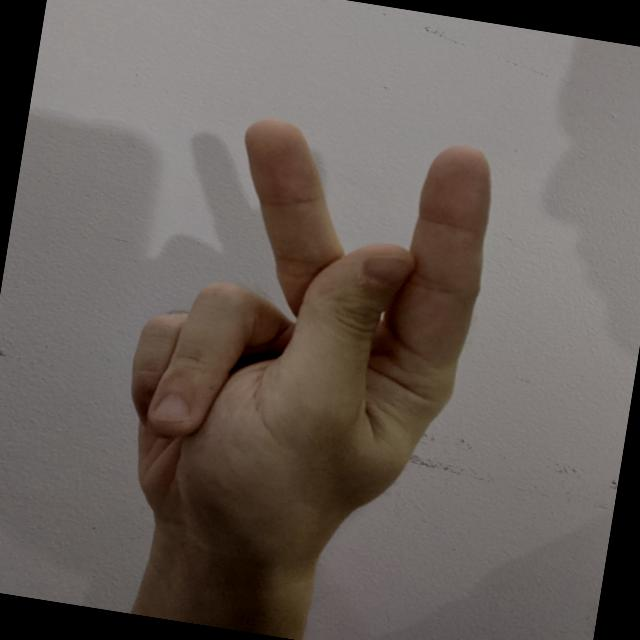K: (95, 88, 514, 594)
